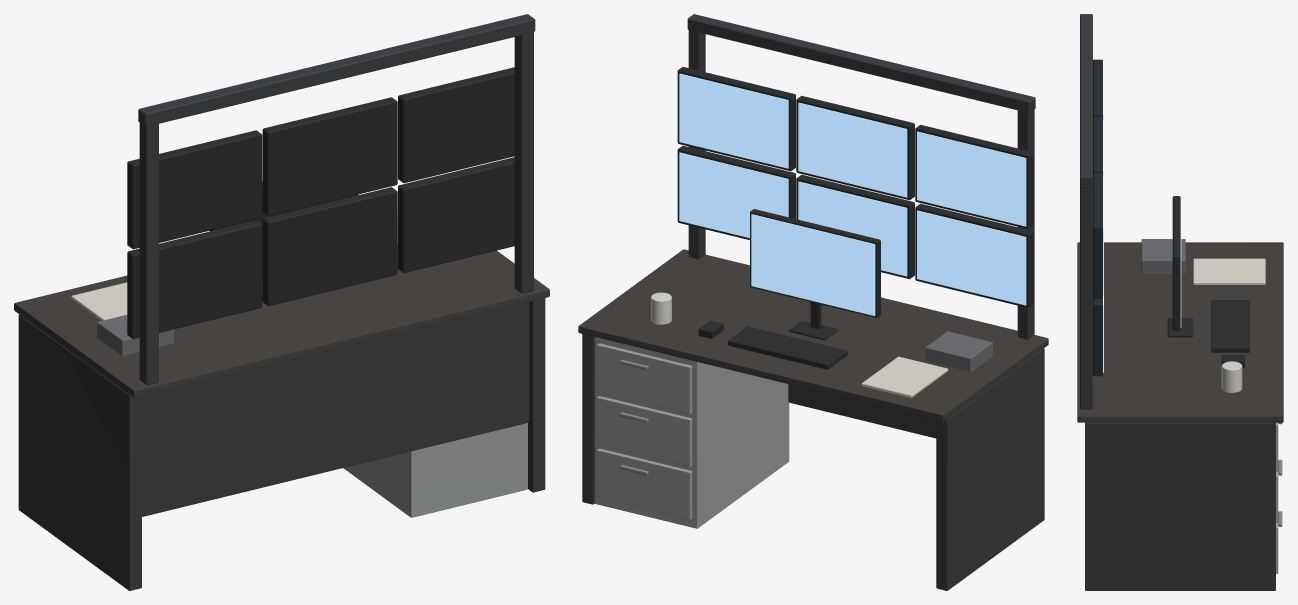
The model's file is prop_camera_station.glb.
The picture shows the model from 3 angles, left to right: view 1: azimuth 30°, elevation 25°; view 2: azimuth 150°, elevation 25°; view 3: azimuth 270°, elevation 25°; orthographic projection. The views are drawn at different scales.
Parts seen in each view (by area): view 1: Desk, Monitors; view 2: Desk, Screens, Monitors; view 3: Desk, Monitors, Screens.
Boxes of the visible parts, left/top/right/bottom form: Desk: left=14, top=207, right=549, bottom=590; Monitors: left=127, top=14, right=535, bottom=385; Desk: left=578, top=249, right=1048, bottom=590; Screens: left=679, top=73, right=1026, bottom=315; Monitors: left=677, top=14, right=1035, bottom=340; Desk: left=1077, top=239, right=1283, bottom=590; Monitors: left=1080, top=14, right=1193, bottom=409; Screens: left=1103, top=63, right=1181, bottom=372.
Size of the model in its own units: 1.6 by 1.75 by 0.8.
